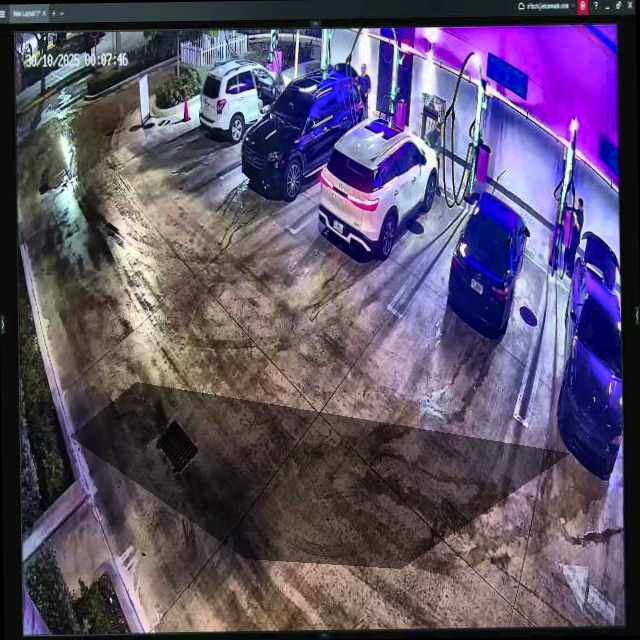Car: (317, 116, 440, 260), (240, 68, 366, 203), (448, 191, 530, 337)
